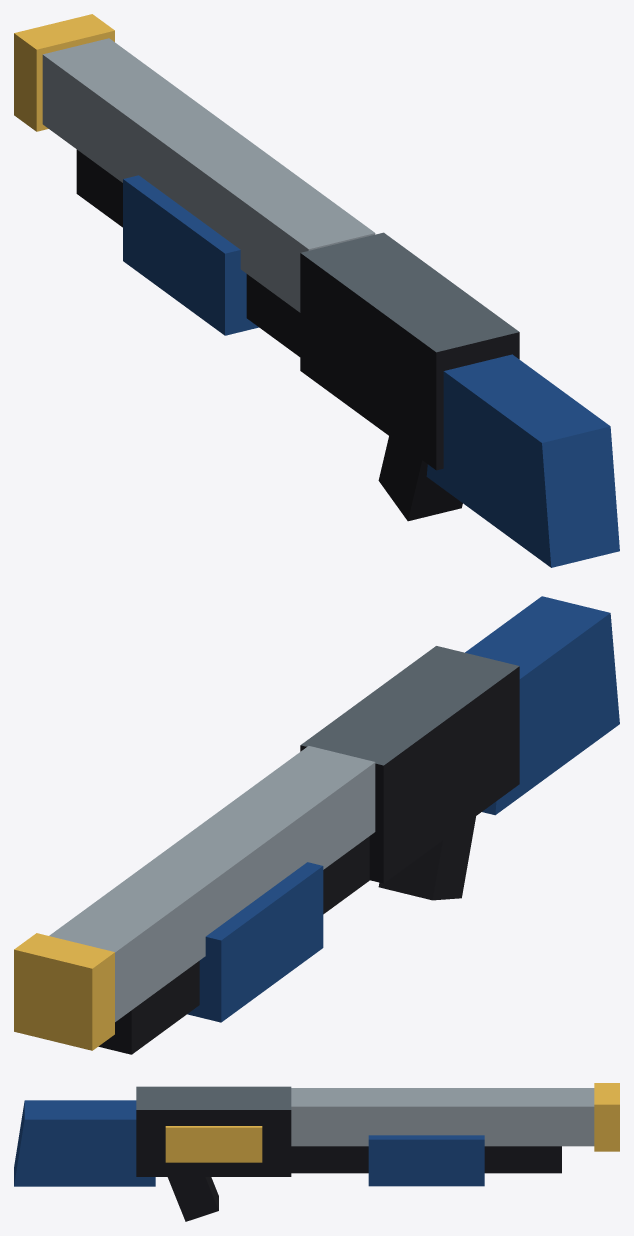
Rendered from wpn_shotgun.glb.
3 renders of one model, top to bottom at view 1: azimuth 30°, elevation 25°; view 2: azimuth 150°, elevation 25°; view 3: azimuth 270°, elevation 25°, orthographic. The views are drawn at different scales.
Parts seen in each view (by area): view 1: wpn_shotgun; view 2: wpn_shotgun; view 3: wpn_shotgun.
Boxes of the visible parts, left/top/right/bottom form: wpn_shotgun: left=14, top=14, right=619, bottom=567; wpn_shotgun: left=14, top=596, right=619, bottom=1054; wpn_shotgun: left=14, top=1083, right=619, bottom=1221.
Size of the model in its own units: 0.1391 by 0.2871 by 1.31.
Materials: 1 (1 with a texture image).
